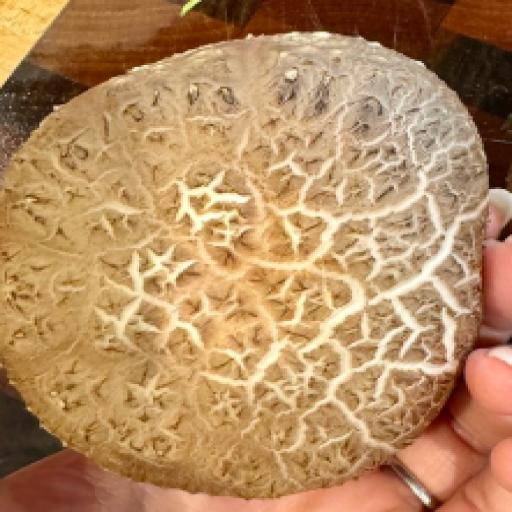Shiitake Mushroom: (0, 37, 486, 485)
